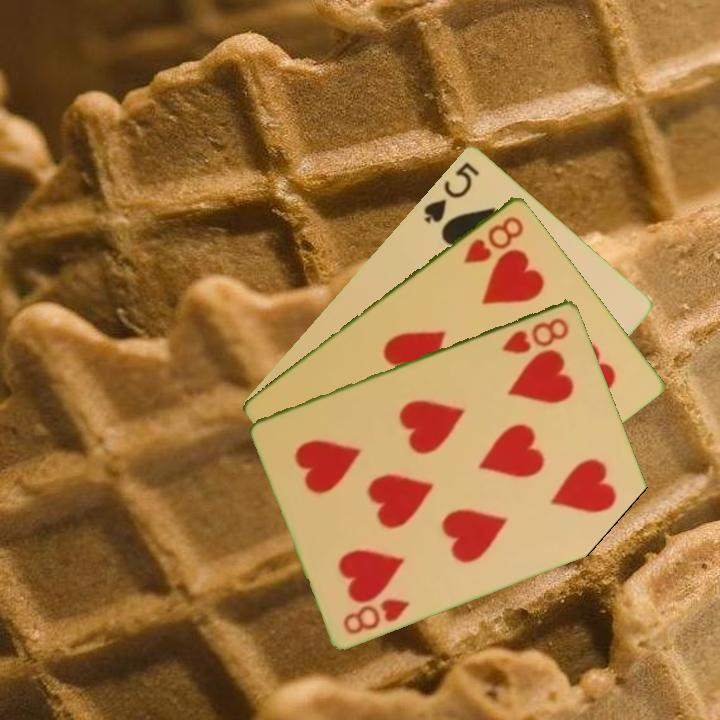5s: (419, 157, 483, 226)
8h: (459, 212, 527, 267), (499, 313, 572, 357), (340, 594, 413, 637)
